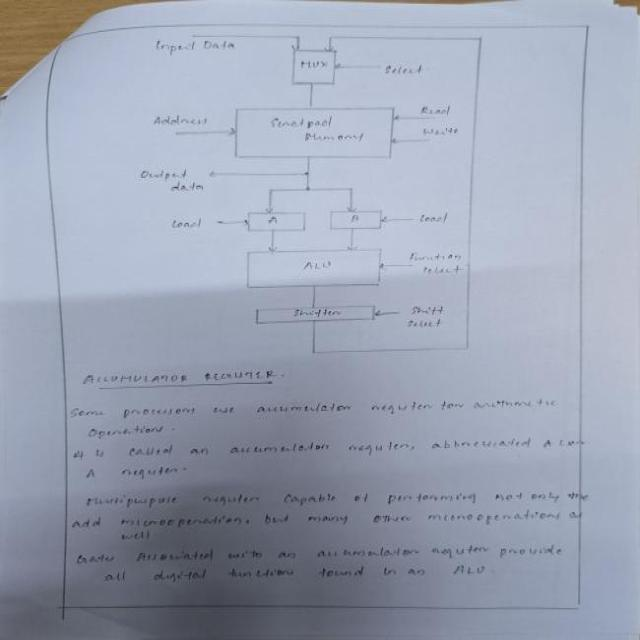Figure Detection - v3 Dataset Version2: (122, 27, 520, 363)
